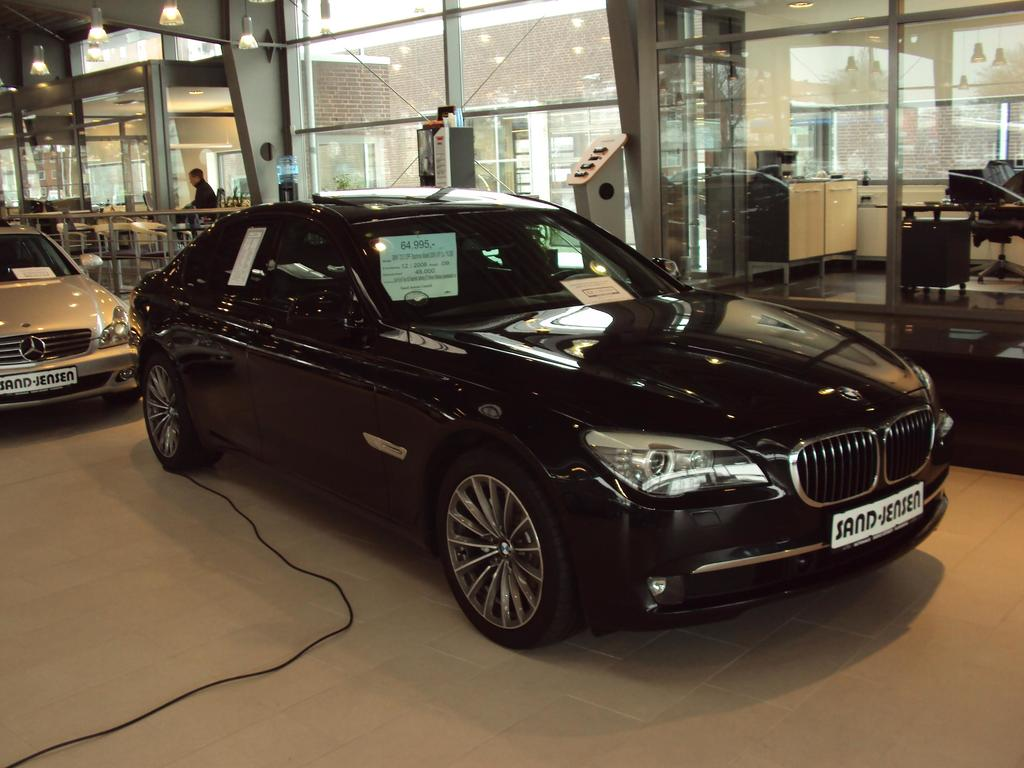Car: (130, 181, 952, 653), (0, 222, 145, 419)
